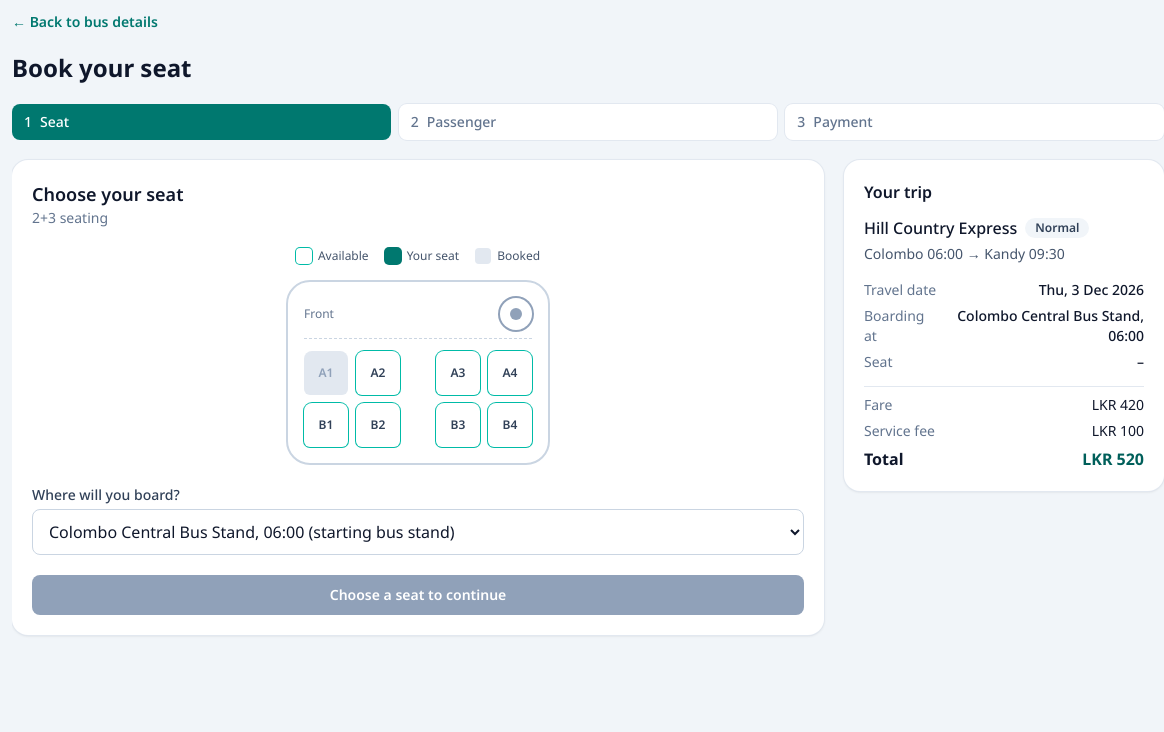
Test: BookingPage › asks for another seat when someone else just took it
Click the button named "Seat A2".
click(378, 373)  # box [356, 351, 400, 395]
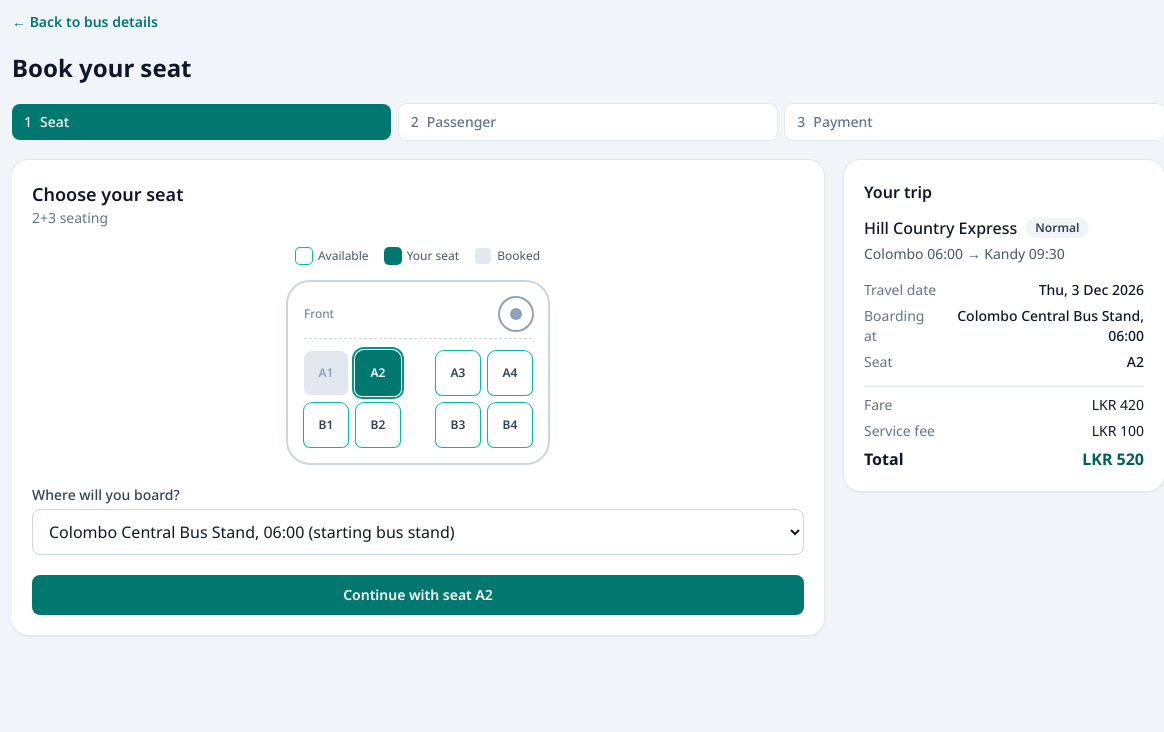
Click the button "Continue with seat A2".
click(418, 595)  # box [32, 575, 804, 615]
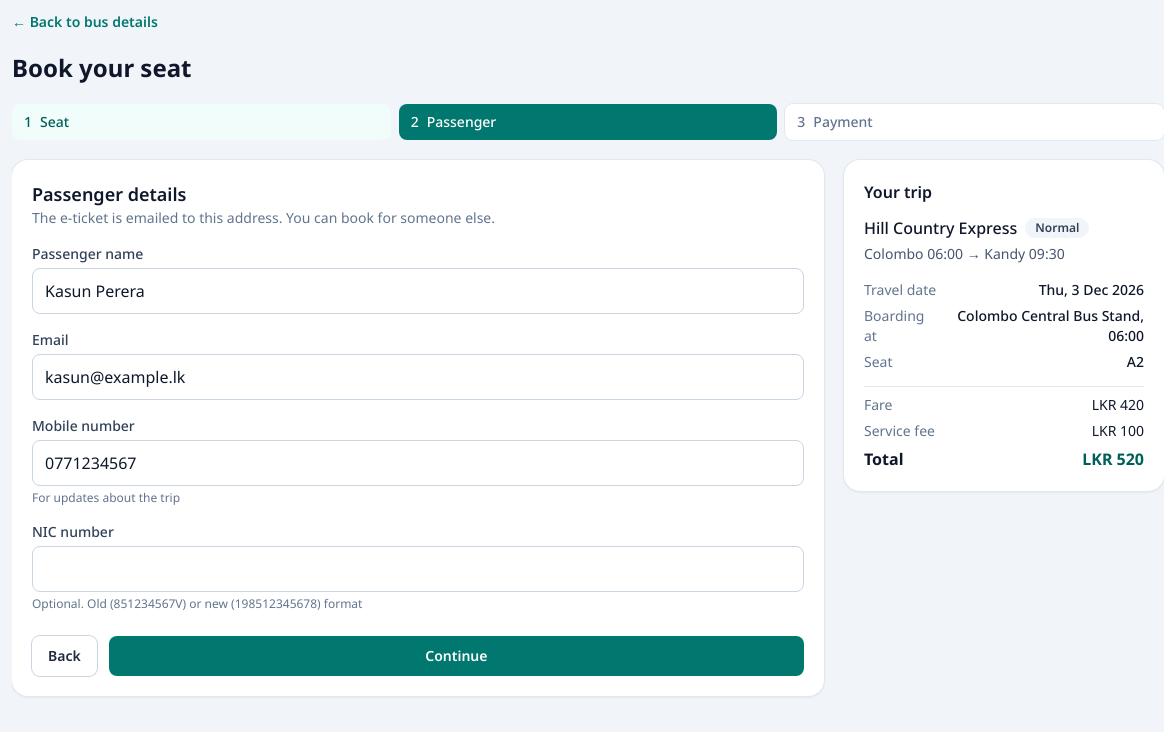
Click the button "Continue".
click(456, 656)  # box [109, 636, 804, 676]
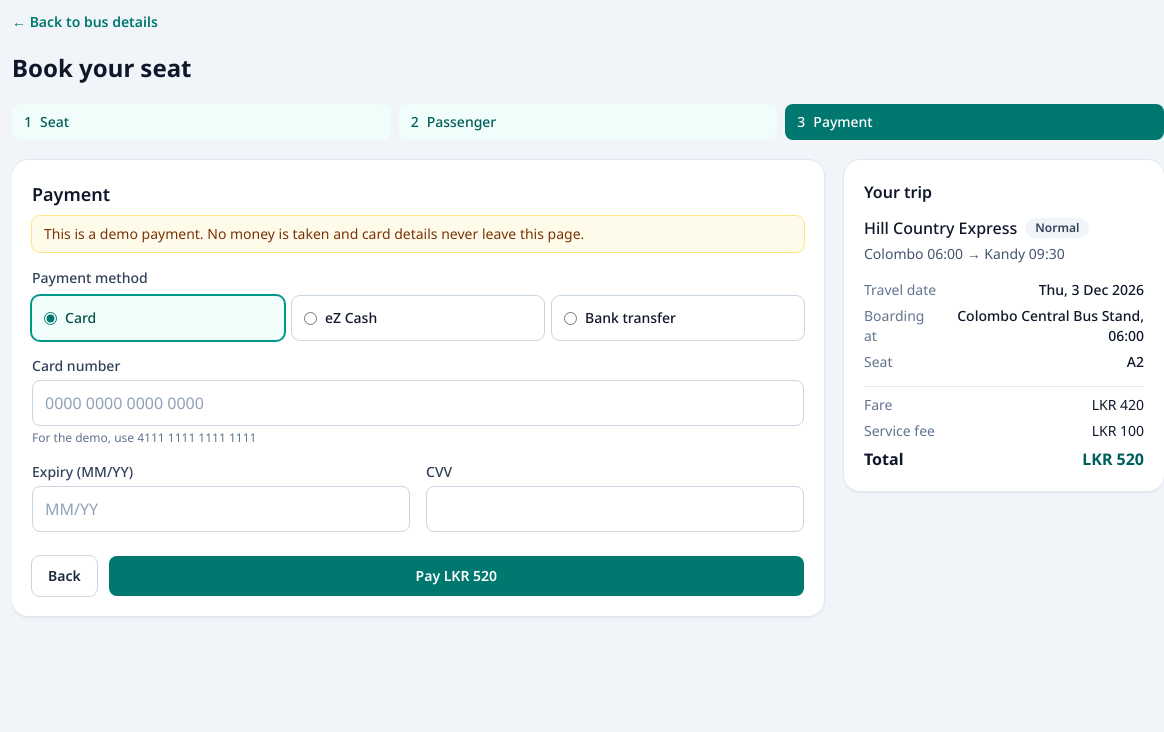
Click the radio button labelled "Bank transfer".
click(570, 318)  # box [564, 312, 577, 324]
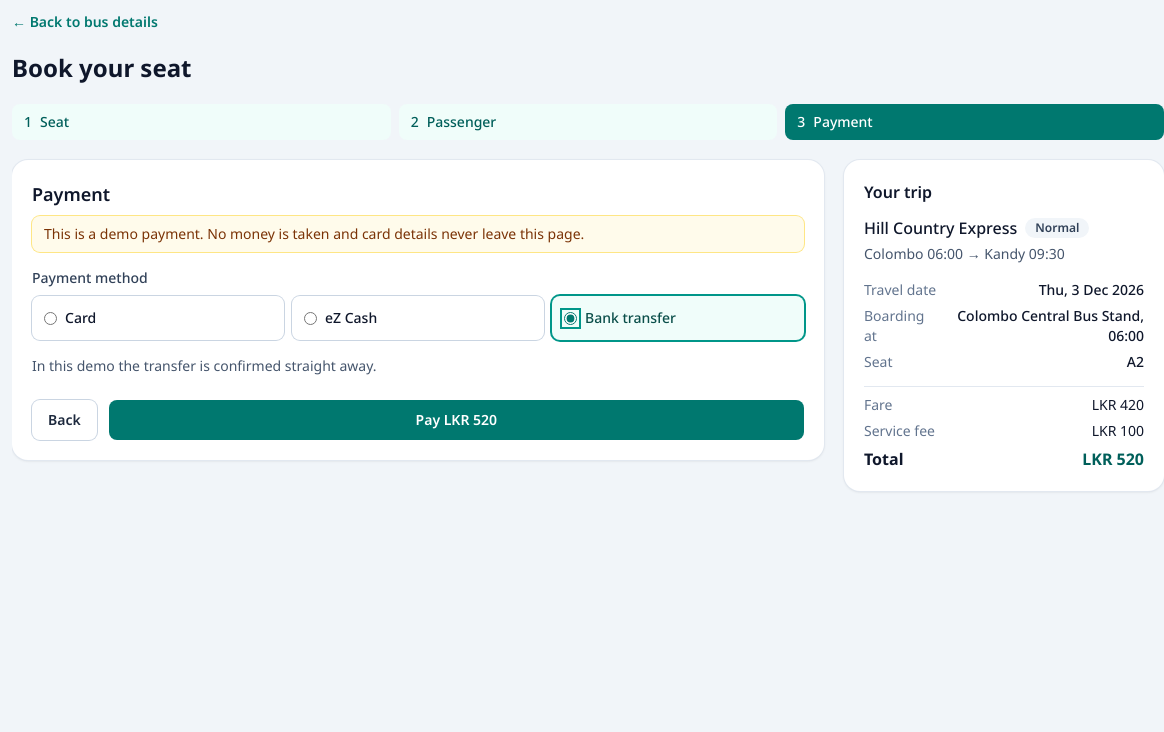
Click the button "Pay LKR 520".
click(456, 420)  # box [109, 400, 804, 440]
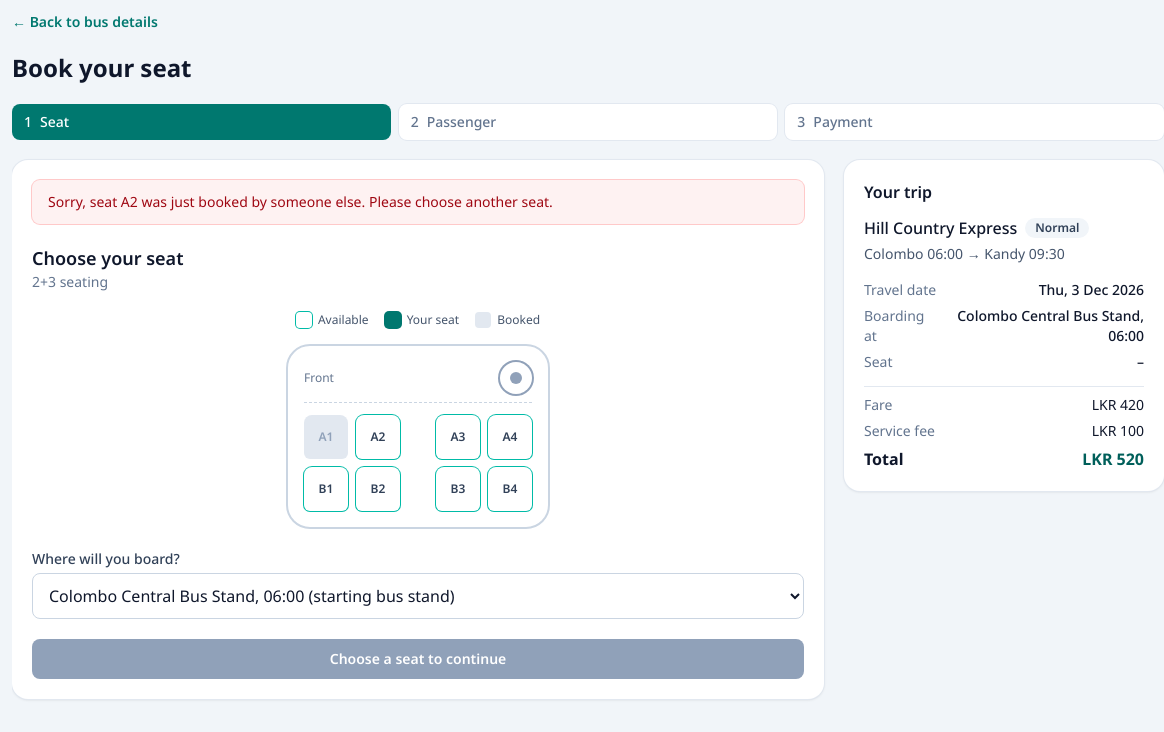
Expected: the message shows "seat A2 was just booked by someone else", [48, 192, 553, 211]
Expected: the button "Choose a seat to continue" is disabled, [32, 639, 804, 679]
